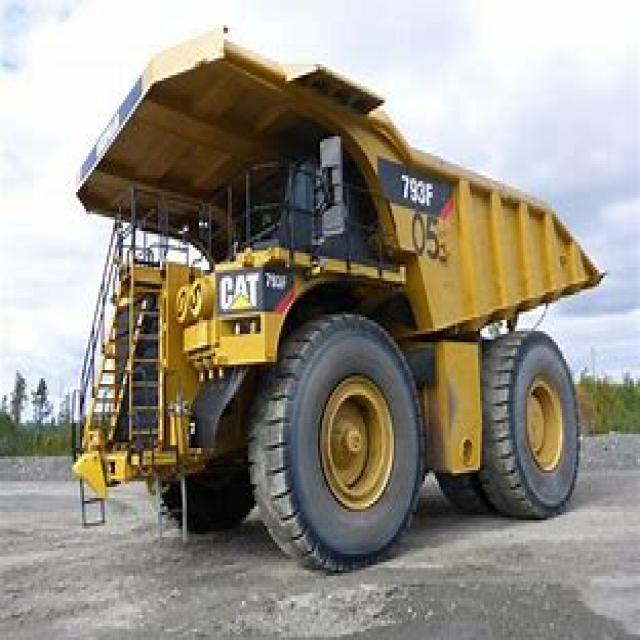dump_truck: (59, 28, 593, 568)
